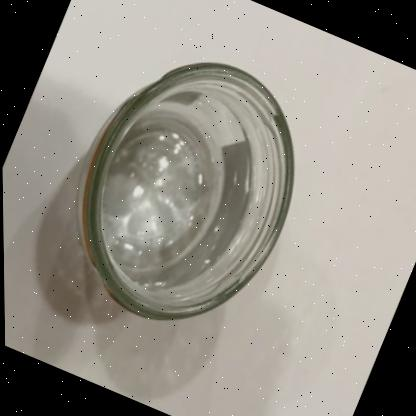Glass: (76, 62, 292, 320)
